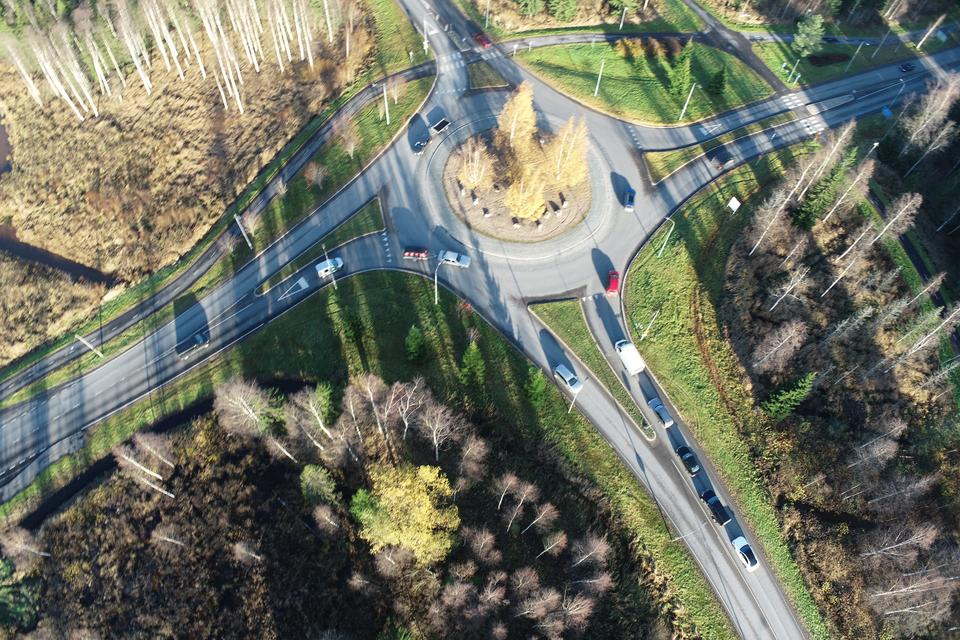intersection: (755, 76, 859, 168), (411, 30, 546, 83)
roundabout: (365, 89, 669, 341)
